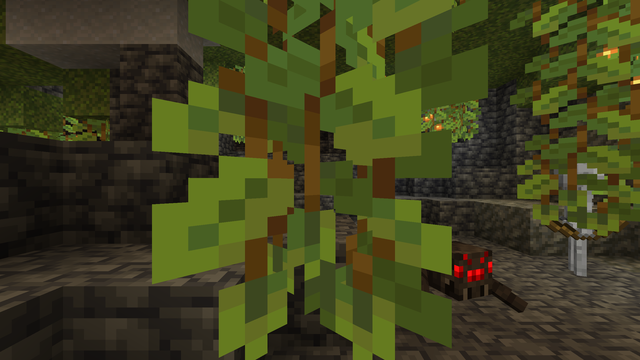araignees: (368, 224, 521, 328)
squelettes: (544, 157, 612, 278)
